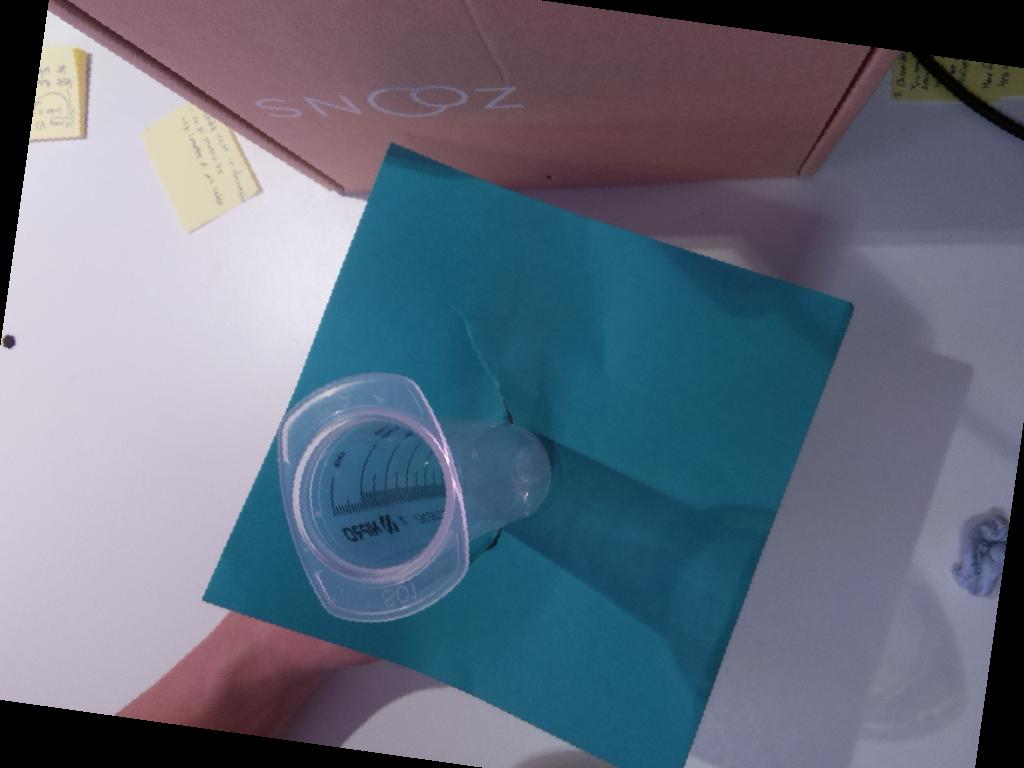clean: (277, 370, 471, 624)
